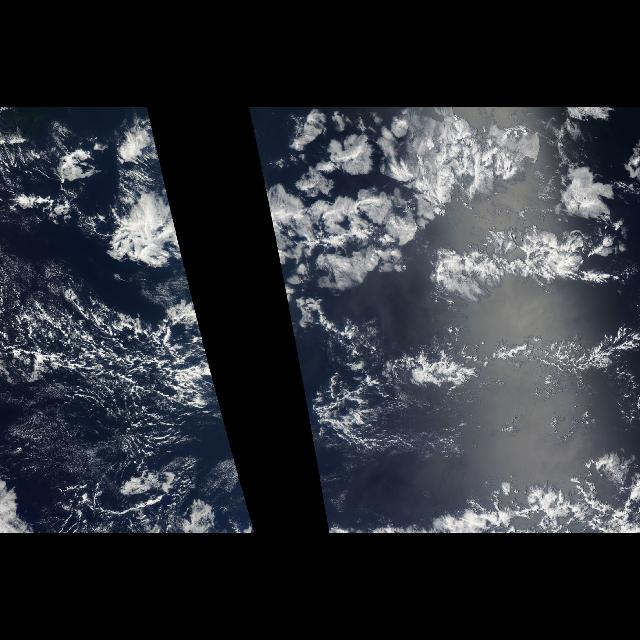Fish: (301, 328, 639, 436), (428, 224, 640, 304)
Gravel: (17, 272, 232, 456)
